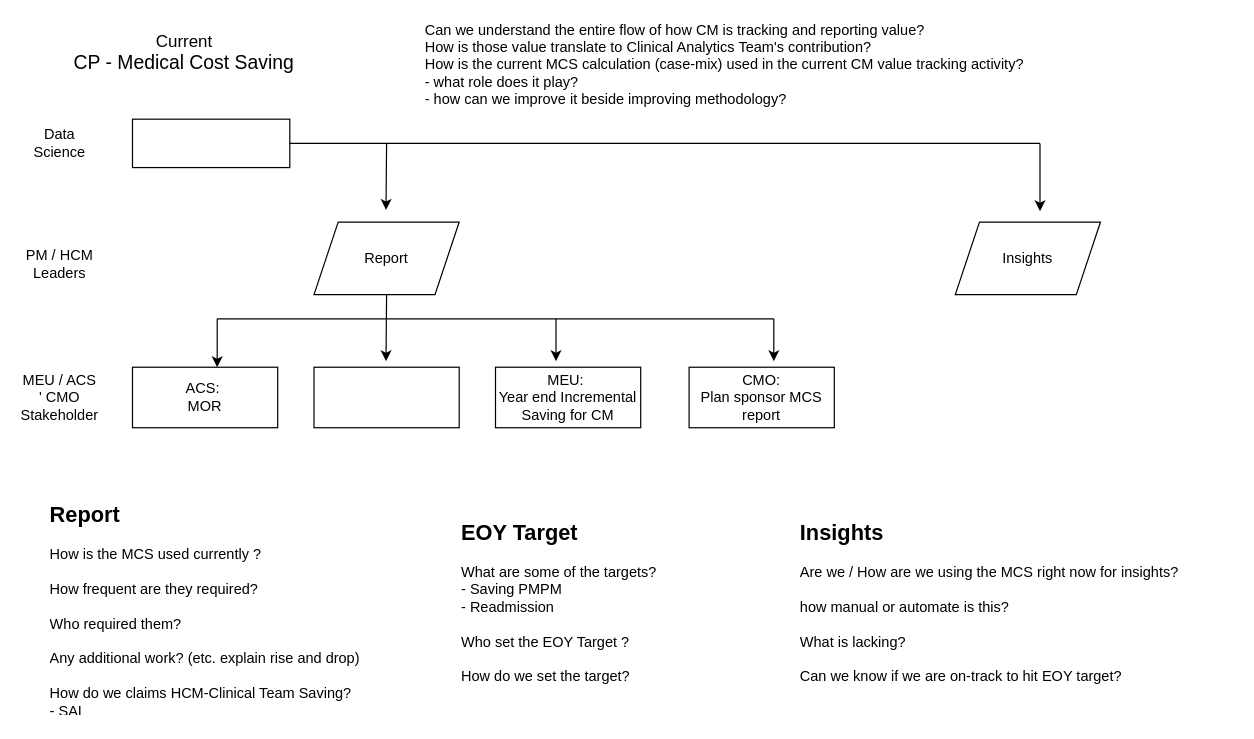
Image size: 1254x739. Some labels were removed from this diagram. The box of each missing label's shape, as (x1, y1, x2, y2) in pixels:
ACS: First Read out in March: (313, 366, 459, 428)
monthly MCS at product, care model: (131, 118, 290, 168)
